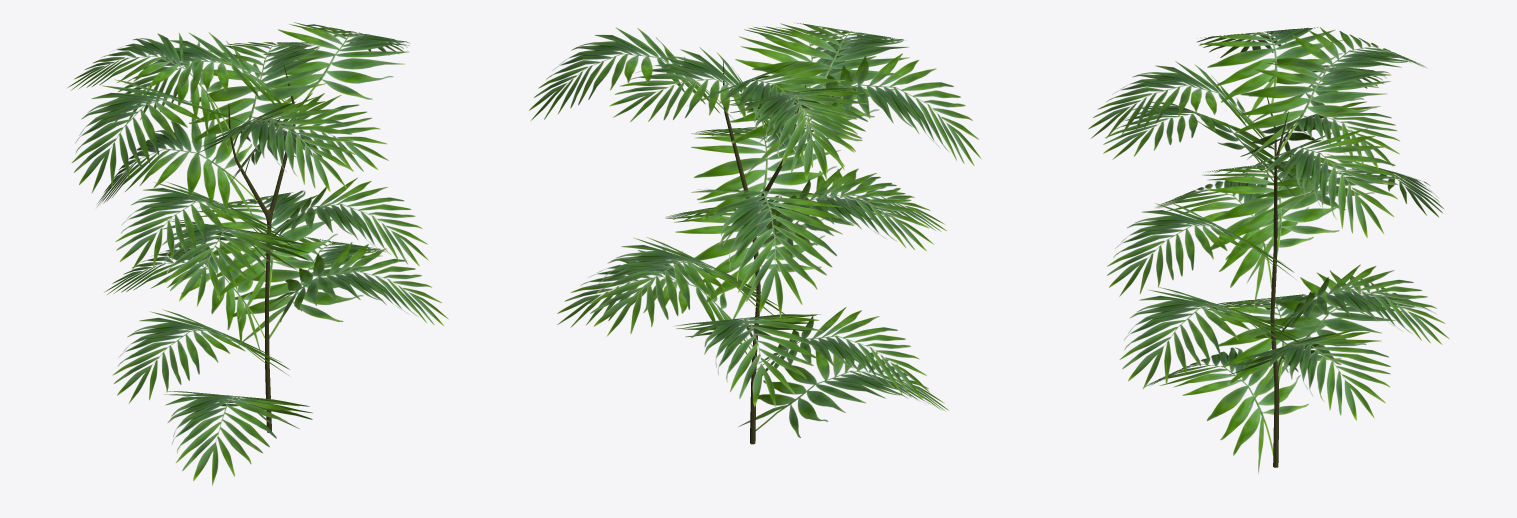
File: Kentia Palm Plant.glb
3 renders of one model, left to right at view 1: azimuth 30°, elevation 25°; view 2: azimuth 150°, elevation 25°; view 3: azimuth 270°, elevation 25°, orthographic. The views are drawn at different scales.
Visible parts, largest first — view 1: Kentia Palm; view 2: Kentia Palm; view 3: Kentia Palm.
Part boxes in pixels (x1,y1,x2,y2): Kentia Palm: (67,22,449,485); Kentia Palm: (529,22,981,444); Kentia Palm: (1088,27,1450,474).
Bounding box in the file's own units: 1.29 × 1.05 × 1.13.
Materials: 2 (1 with a texture image).
